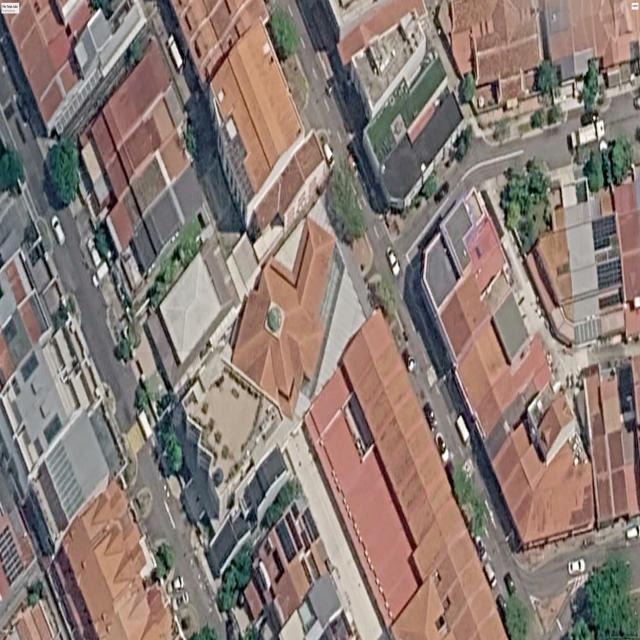Home: (88, 41, 202, 274), (0, 317, 116, 544), (54, 480, 173, 640), (210, 21, 303, 223), (531, 178, 626, 346), (88, 43, 186, 197), (492, 426, 595, 548), (32, 410, 125, 545), (456, 319, 551, 436), (439, 0, 542, 102), (585, 368, 640, 527), (542, 0, 640, 80), (440, 276, 488, 357), (538, 394, 575, 465)
mosque: (232, 219, 343, 418)
